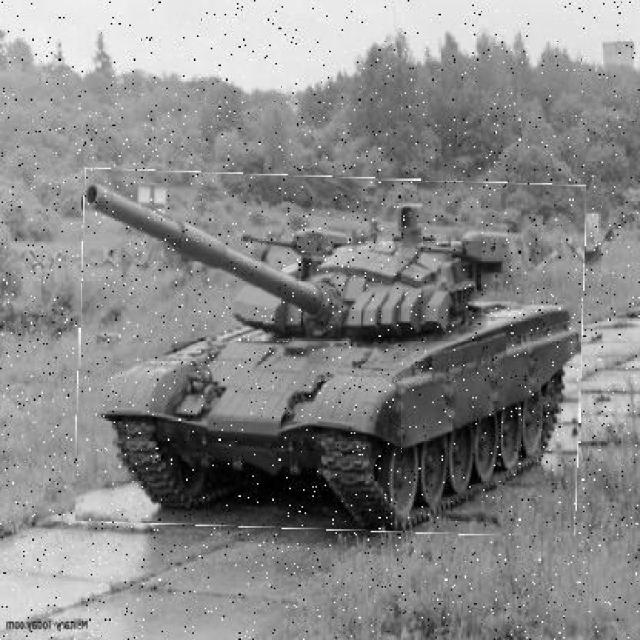Tank: (76, 173, 584, 535)
